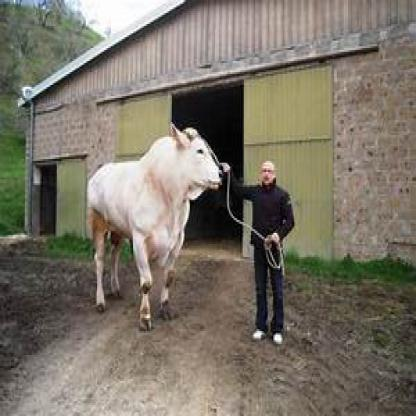cow: (86, 122, 225, 335)
